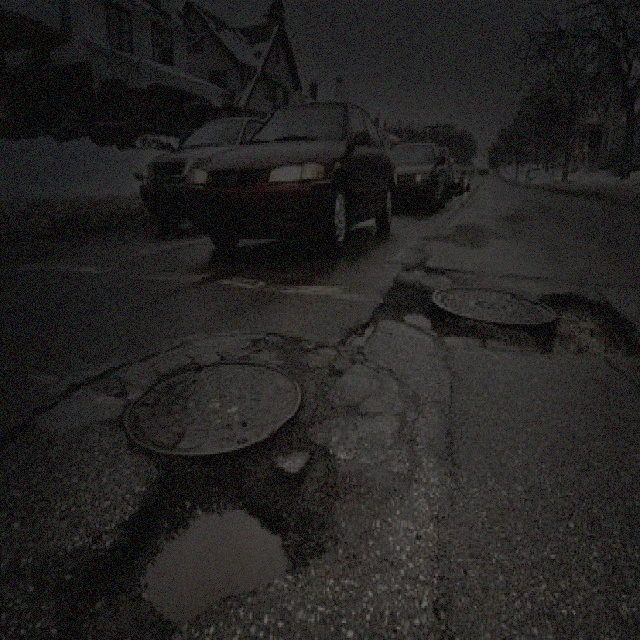pothole: (48, 433, 338, 638), (540, 286, 638, 367), (368, 269, 440, 339)
